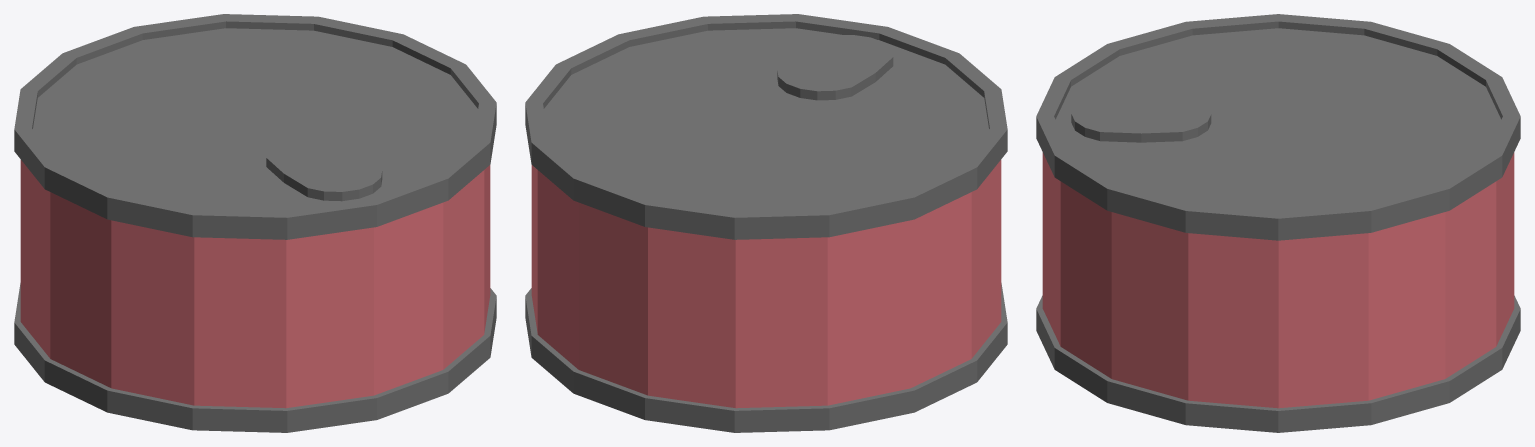
Rendered from DogFood1.fbx.
3 renders of one model, left to right at view 1: azimuth 30°, elevation 25°; view 2: azimuth 150°, elevation 25°; view 3: azimuth 270°, elevation 25°, orthographic.
Parts seen in each view (by area): view 1: Cylinder.002, Cylinder, Cylinder.001, Cylinder.003; view 2: Cylinder.002, Cylinder, Cylinder.001, Cylinder.003; view 3: Cylinder.002, Cylinder, Cylinder.001, Cylinder.003.
Boxes of the visible parts, box(x1,y1,x2,y2) form: Cylinder.002: box(14, 14, 496, 239); Cylinder: box(20, 160, 490, 408); Cylinder.001: box(14, 283, 496, 432); Cylinder.003: box(266, 135, 382, 201); Cylinder.002: box(525, 14, 1007, 239); Cylinder: box(531, 160, 1001, 408); Cylinder.001: box(525, 283, 1007, 432); Cylinder.003: box(777, 35, 893, 100); Cylinder.002: box(1036, 14, 1520, 240); Cylinder: box(1042, 152, 1514, 408); Cylinder.001: box(1036, 295, 1520, 432); Cylinder.003: box(1071, 94, 1211, 142).
Size of the model in its own units: 206 by 101 by 206.
